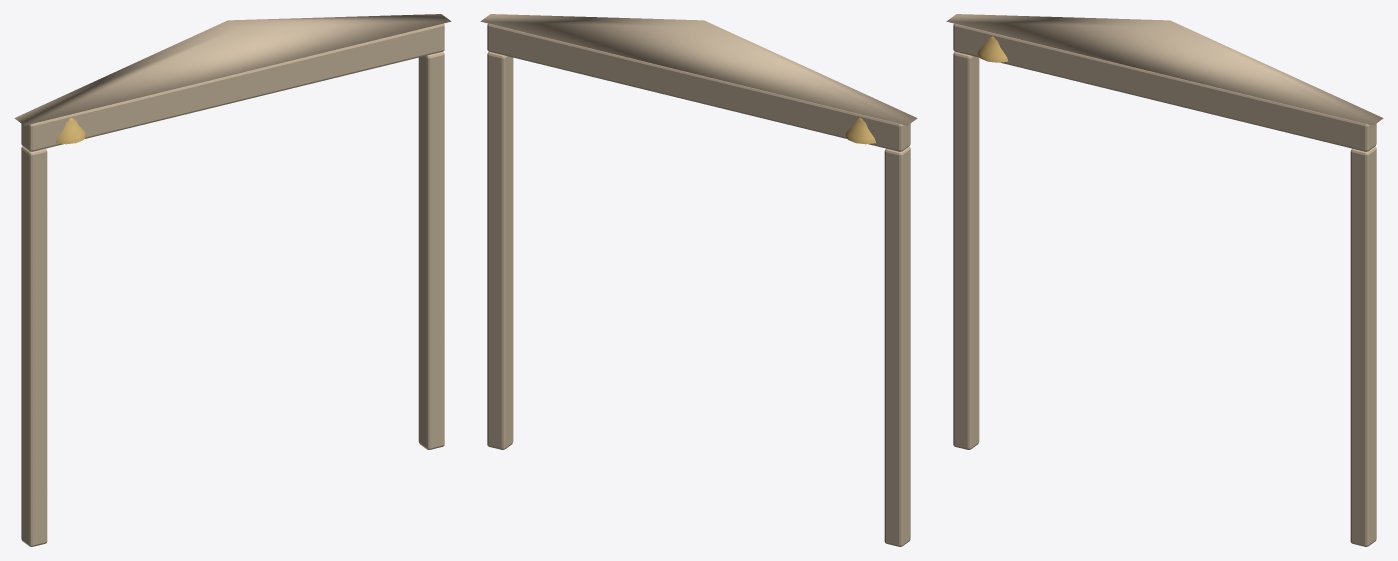
The model's file is paymentslab-bell-toran.glb.
The picture shows the model from 3 angles, left to right: view 1: azimuth 30°, elevation 25°; view 2: azimuth 150°, elevation 25°; view 3: azimuth 330°, elevation 25°; orthographic projection.
Parts seen in each view (by area): view 1: ToranFrame; view 2: ToranFrame; view 3: ToranFrame.
Part boxes in pixels (<box>): ToranFrame: <box>14,14,451,546</box>; ToranFrame: <box>480,14,917,546</box>; ToranFrame: <box>946,14,1383,546</box>.
Size of the model in its own units: 2.15 by 2.26 by 0.18.
